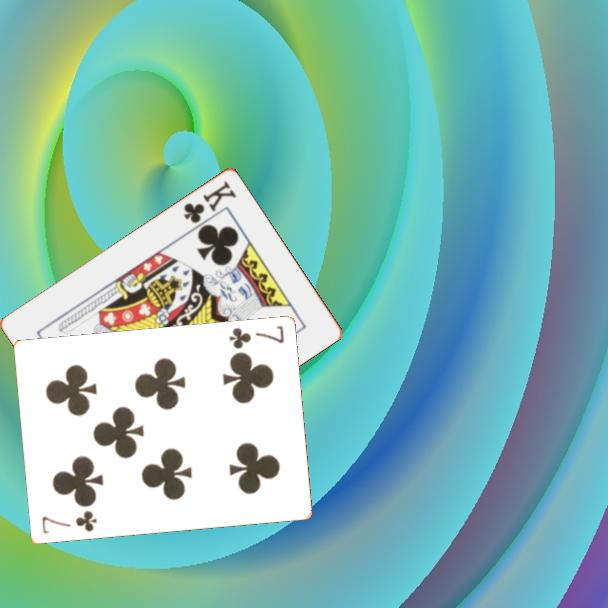c07: (38, 507, 99, 537), (225, 323, 287, 352)
c13: (180, 177, 239, 226)
